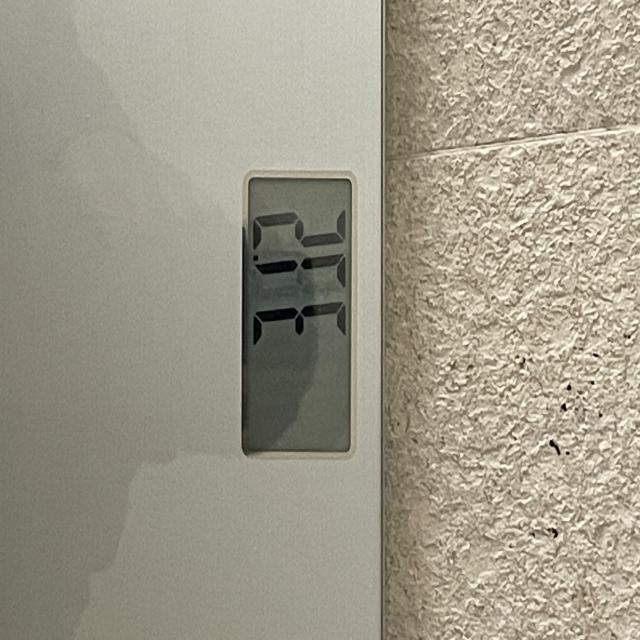ws: (240, 170, 357, 459)
